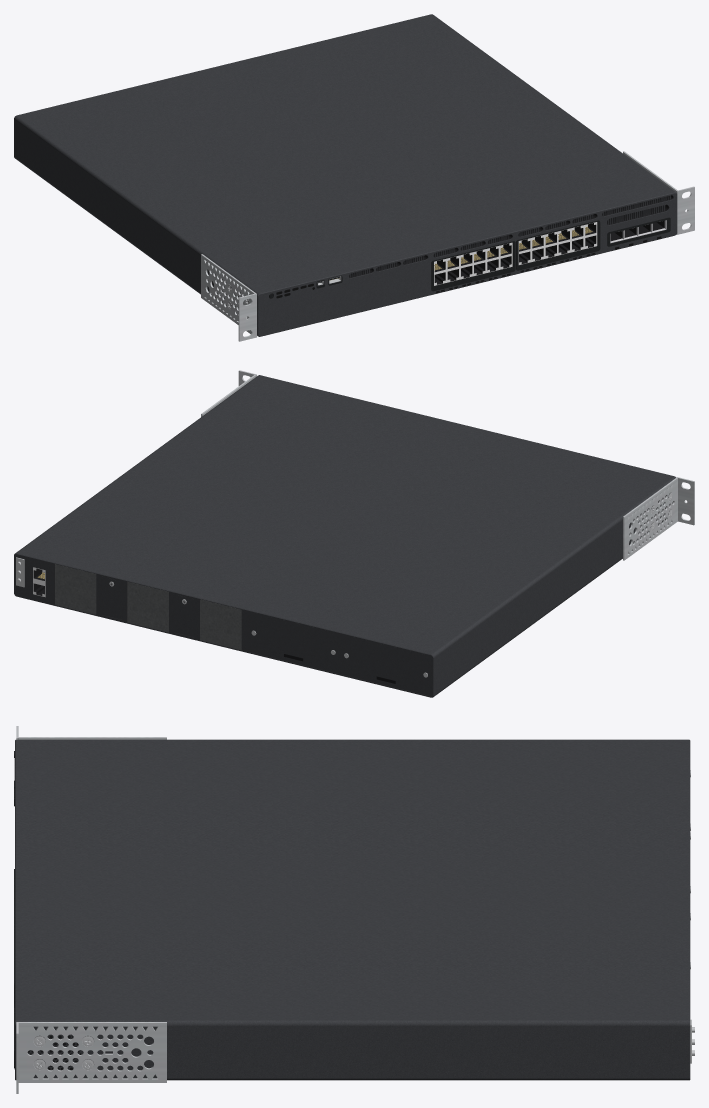
The picture shows the model from 3 angles, top to bottom: view 1: azimuth 30°, elevation 25°; view 2: azimuth 150°, elevation 25°; view 3: azimuth 270°, elevation 25°; orthographic projection. The views are drawn at different scales.
Visible parts, largest first — view 1: Shell, Rack_Ears; view 2: Shell, Rear, empty:PSU2, empty:PSU1, Rack_Ears, empty:FAN 1, empty:FAN 2, empty:FAN 3, empty:StackPort1/2, empty:StackPort1/1; view 3: Shell, Rack_Ears.
Part boxes in pixels (left/top/right/bottom): Shell: left=14, top=14, right=677, bottom=336; Rack_Ears: left=201, top=151, right=694, bottom=341; Shell: left=14, top=375, right=676, bottom=697; Rear: left=14, top=554, right=433, bottom=697; empty:PSU2: left=341, top=634, right=431, bottom=696; empty:PSU1: left=248, top=612, right=338, bottom=673; Rack_Ears: left=201, top=370, right=694, bottom=560; empty:FAN 1: left=55, top=564, right=96, bottom=614; empty:FAN 2: left=127, top=581, right=168, bottom=632; empty:FAN 3: left=200, top=599, right=241, bottom=649; empty:StackPort1/2: left=174, top=594, right=194, bottom=637; empty:StackPort1/1: left=102, top=577, right=121, bottom=619; Shell: left=14, top=739, right=690, bottom=1080; Rack_Ears: left=16, top=726, right=166, bottom=1093.
Size of the model in its own units: 0.4826 by 0.044 by 0.4513.
11 materials, 5 textured.
